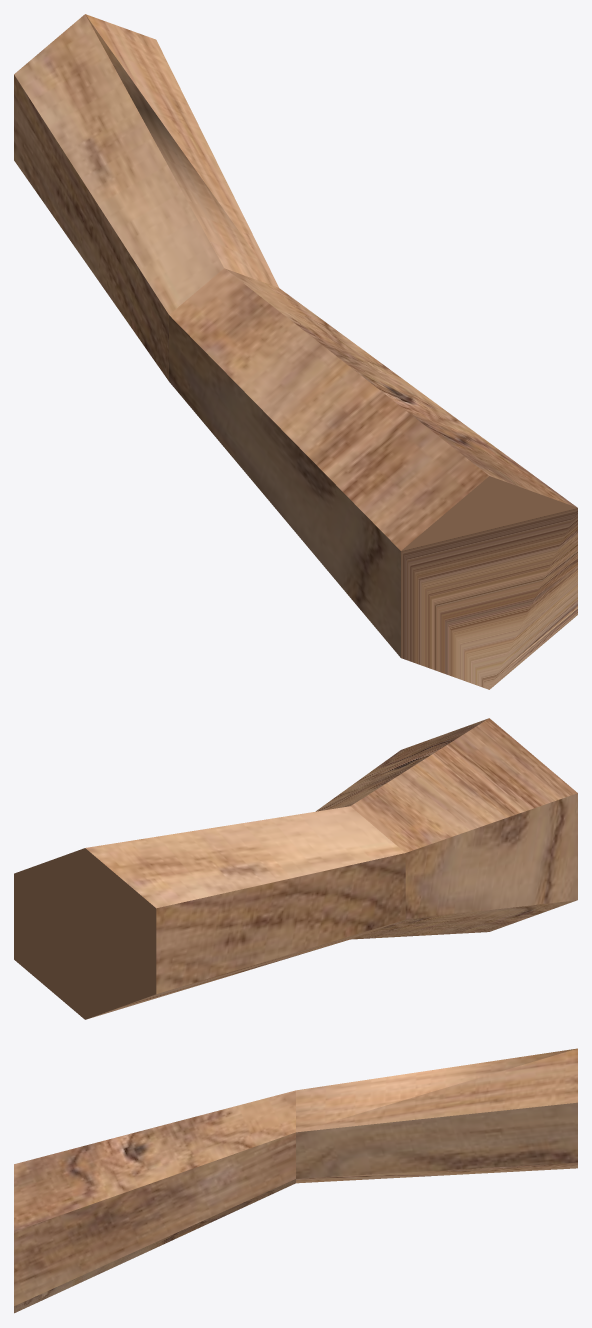
File: left_arm.gltf
3 views of the same model, one above another, from view 1: azimuth 30°, elevation 25°; view 2: azimuth 150°, elevation 25°; view 3: azimuth 270°, elevation 25° (orthographic). The views are drawn at different scales.
Visible parts, largest first — view 1: Cylinder.003_Brown_0.002; view 2: Cylinder.003_Brown_0.002; view 3: Cylinder.003_Brown_0.002.
Part boxes in pixels (bbox=[...]): Cylinder.003_Brown_0.002: bbox=[14, 14, 577, 689]; Cylinder.003_Brown_0.002: bbox=[14, 718, 577, 1019]; Cylinder.003_Brown_0.002: bbox=[14, 1048, 577, 1313].
Size of the model in its own units: 15.35 by 26.95 by 51.97.
Materials: 1 (1 with a texture image).
